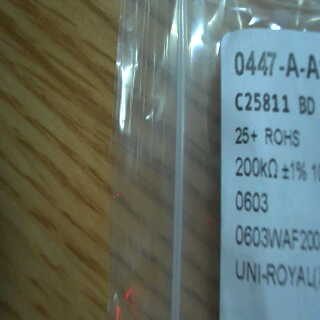200kR: (230, 151, 281, 185)
